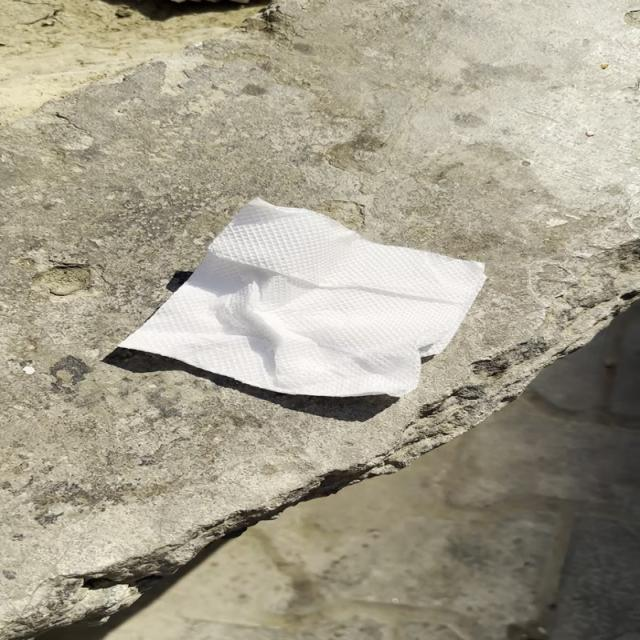tissue: (119, 195, 502, 408)
